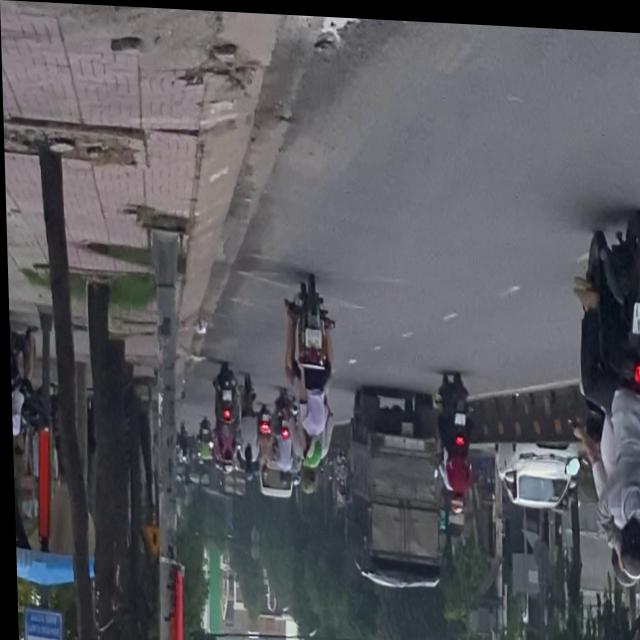helmet: (616, 509, 640, 571), (300, 424, 320, 465)
licenseplate: (568, 200, 640, 580), (276, 267, 339, 497)
motorcyclist: (295, 460, 318, 494)
nohelmet: (304, 326, 321, 346), (631, 297, 640, 331)
